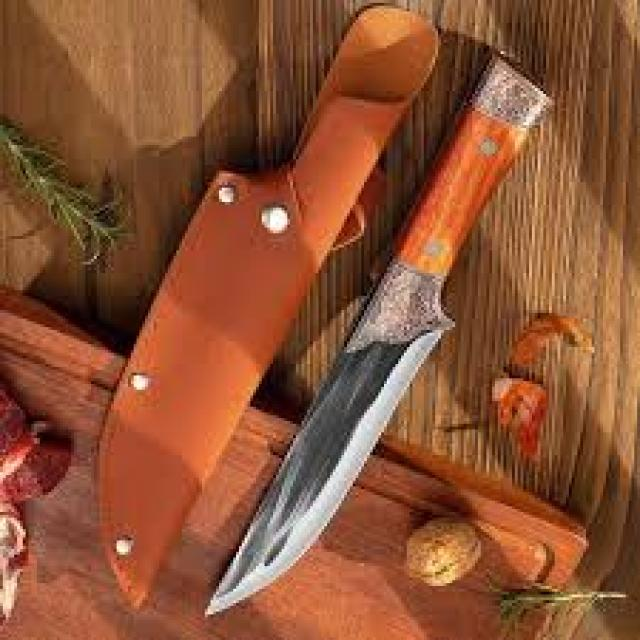Knife: (205, 57, 549, 612)
